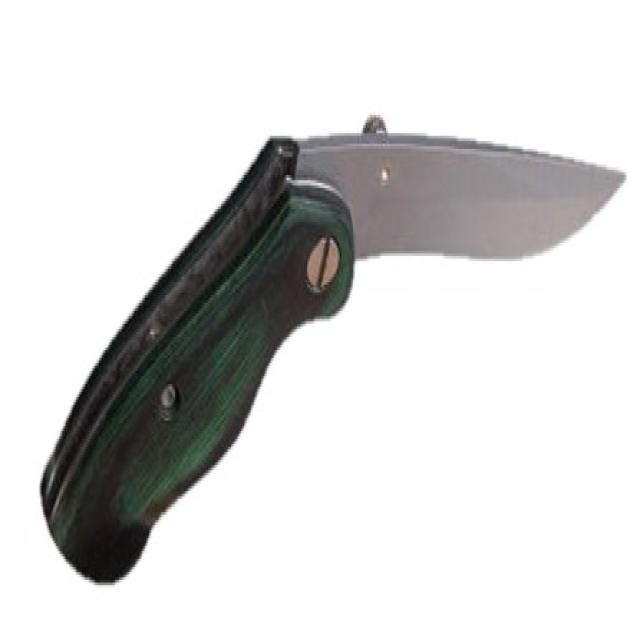knife: (41, 73, 631, 587)
